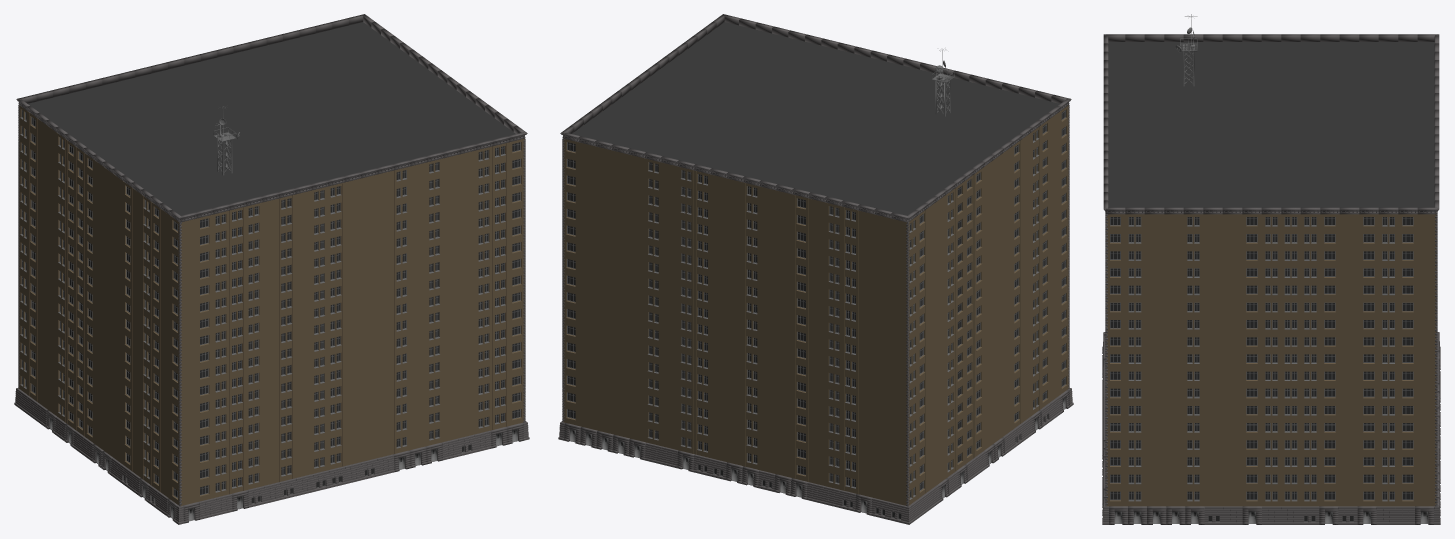
Rendered from gigahruch.fbx.
3 renders of one model, left to right at view 1: azimuth 30°, elevation 25°; view 2: azimuth 150°, elevation 25°; view 3: azimuth 270°, elevation 25°, orthographic. The views are drawn at different scales.
Visible parts, largest first — view 1: building_base; view 2: building_base; view 3: building_base.
Part boxes in pixels (x1,y1,x2,y2): building_base: (14, 14, 529, 524); building_base: (558, 14, 1073, 524); building_base: (1102, 14, 1440, 524).
Bounding box in the file's own units: 6607 × 6568 × 5359.
